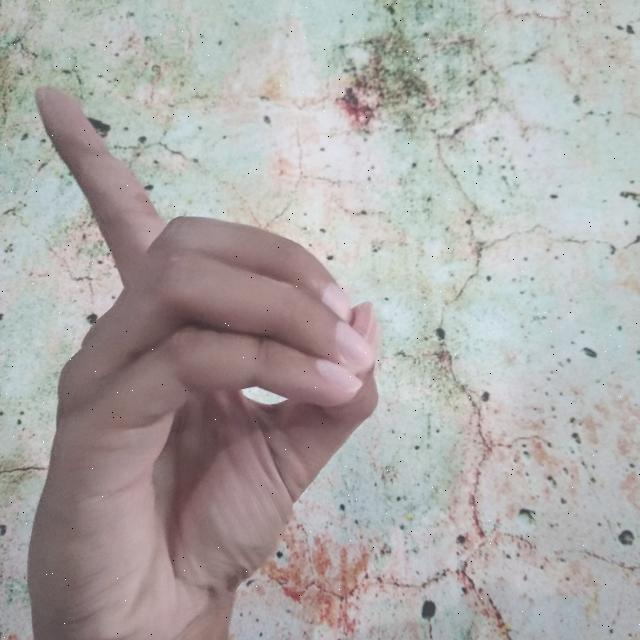D: (24, 80, 383, 640)
